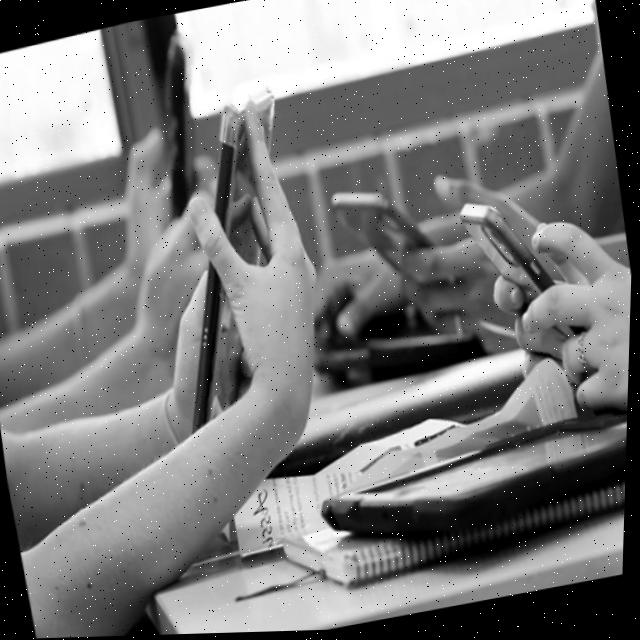phone: (126, 82, 342, 441), (315, 400, 630, 567), (455, 183, 583, 363), (327, 167, 462, 312), (132, 30, 224, 227)
